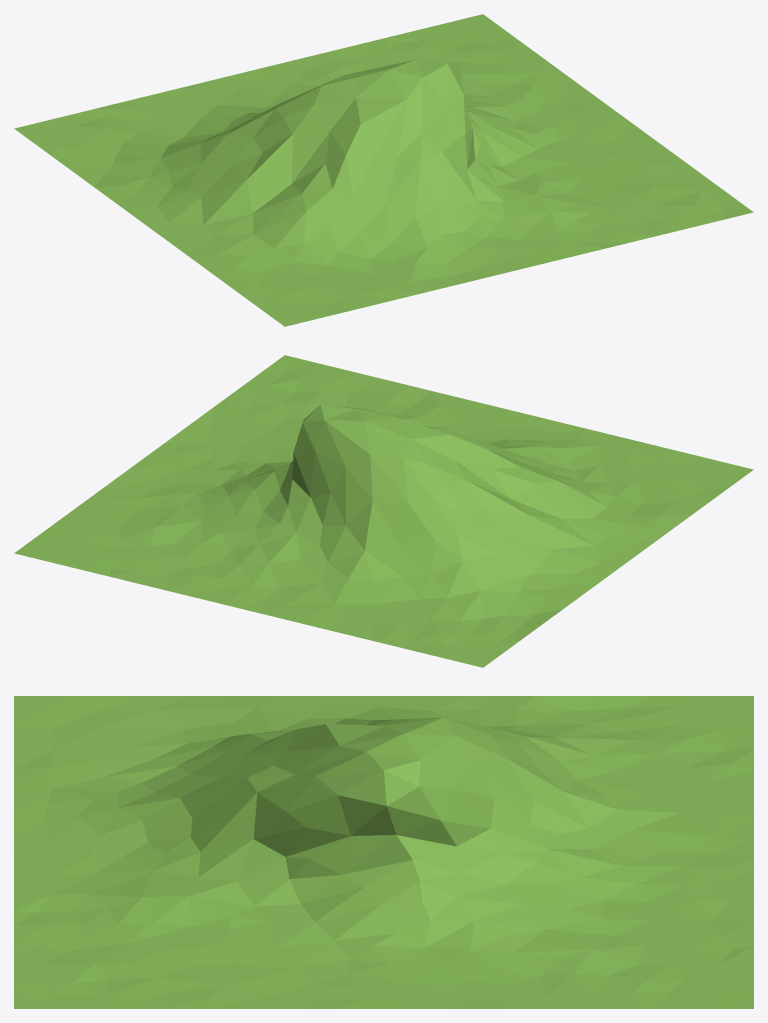
Rendered from MT_Terrain_M_a_27_LOD.fbx.
3 views of the same model, one above another, from view 1: azimuth 30°, elevation 25°; view 2: azimuth 150°, elevation 25°; view 3: azimuth 270°, elevation 25° (orthographic). The views are drawn at different scales.
Parts seen in each view (by area): view 1: MT_Terrain_M_a_27_LOD0; view 2: MT_Terrain_M_a_27_LOD0; view 3: MT_Terrain_M_a_27_LOD0.
Part boxes in pixels (box(x1,y1,x2,y2)): MT_Terrain_M_a_27_LOD0: box(14, 14, 753, 326); MT_Terrain_M_a_27_LOD0: box(14, 355, 753, 667); MT_Terrain_M_a_27_LOD0: box(14, 696, 753, 1008).
Size of what is drawn, in the model's own units: 5000 by 968 by 5000.
